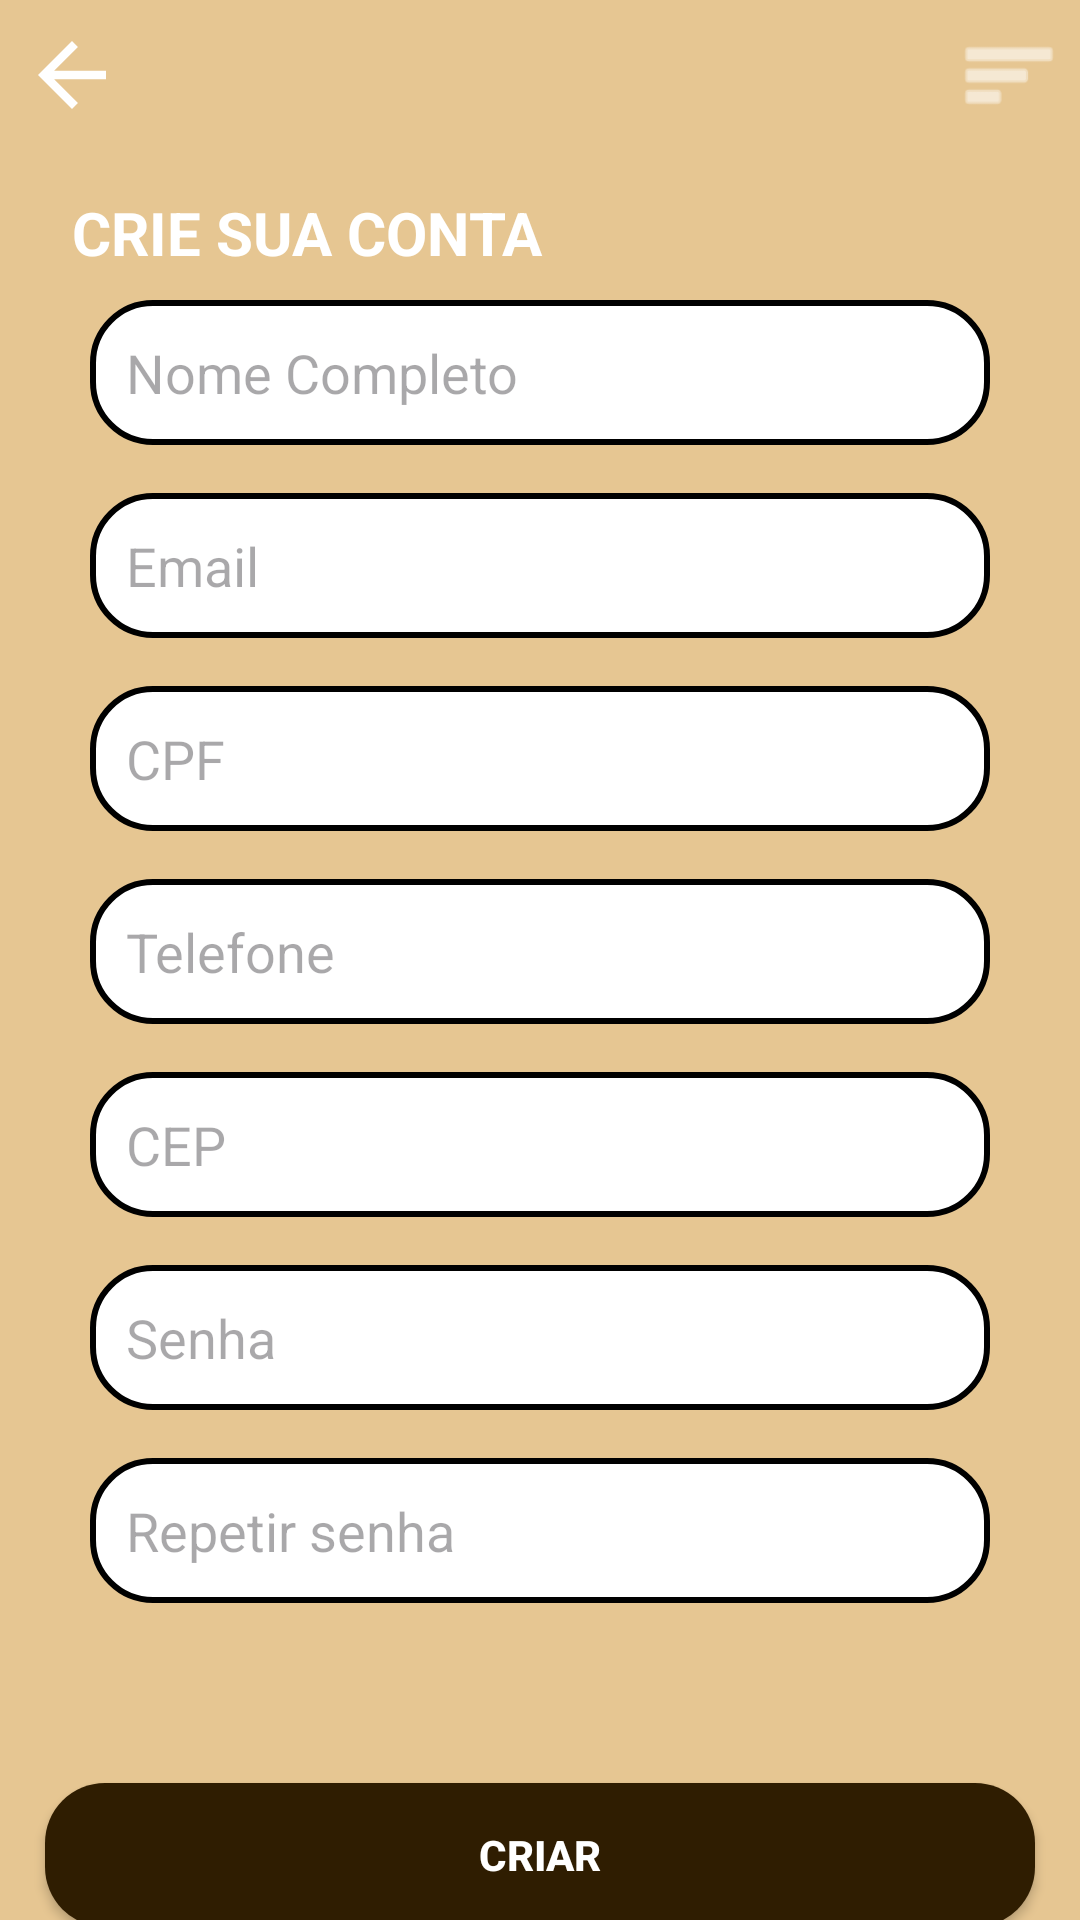

Locate icon controls on the screen. Image size 1080×1920, boxes as (x1, y1, x2, y2).
sort by size: (965, 47, 1053, 104)
